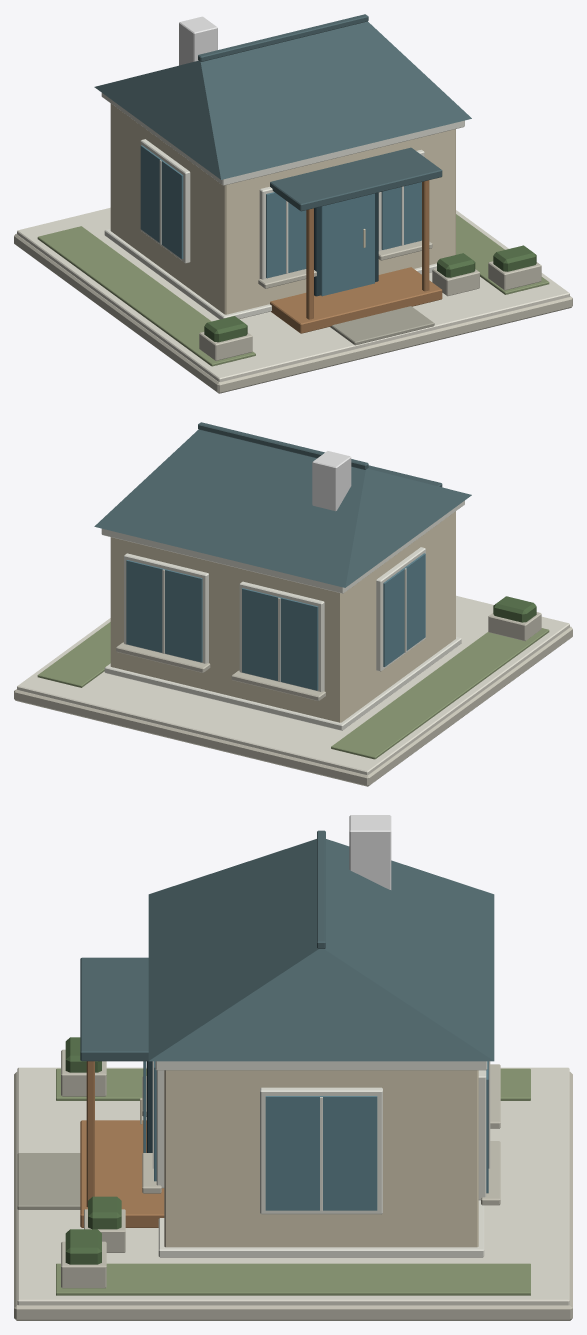
The model's file is small-2x2-a.glb.
The picture shows the model from 3 angles, top to bottom: view 1: azimuth 30°, elevation 25°; view 2: azimuth 150°, elevation 25°; view 3: azimuth 270°, elevation 25°; orthographic projection. The views are drawn at different scales.
Visible parts, largest first — view 1: HipRoof_Unoccupied, BuildingBody, LotTop, GrassSide, LotBase, PorchRoof, PorchDeck, EntryDoor, SideGlass, WindowGlass, WindowGlass.002, RoofCap (+18 smaller); view 2: HipRoof_Unoccupied, BuildingBody, LotTop, GrassSide, LotBase, WindowGlass.001, WindowGlass.003, SideGlass, FloorBand, GrassSide.001, RoofCap, Chimney (+8 smaller); view 3: HipRoof_Unoccupied, BuildingBody, LotTop, GrassSide.001, SideGlass.001, LotBase, PorchRoof, PorchDeck, FloorBand, EntryPath, RoofCap, SideFrame.001 (+15 smaller).
Boxes of the visible parts, box(x1,y1,x2,y2) form: HipRoof_Unoccupied: box(94, 21, 471, 179); BuildingBody: box(110, 103, 455, 314); LotTop: box(17, 207, 569, 381); GrassSide: box(37, 226, 255, 366); LotBase: box(14, 233, 572, 393); PorchRoof: box(270, 147, 442, 211); PorchDeck: box(270, 267, 442, 333); EntryDoor: box(321, 193, 374, 296); SideGlass: box(140, 145, 183, 258); WindowGlass: box(266, 192, 306, 278); WindowGlass.002: box(381, 182, 421, 249); RoofCap: box(101, 93, 464, 185); HipRoof_Unoccupied: box(94, 429, 471, 587); BuildingBody: box(110, 511, 455, 722); LotTop: box(17, 595, 569, 774); GrassSide: box(331, 628, 549, 759); LotBase: box(14, 626, 572, 786); WindowGlass.001: box(242, 588, 318, 690); WindowGlass.003: box(126, 560, 202, 662); SideGlass: box(383, 553, 425, 666); FloorBand: box(104, 637, 461, 730); GrassSide.001: box(37, 622, 110, 687); RoofCap: box(101, 500, 464, 593); Chimney: box(312, 451, 351, 511); HipRoof_Unoccupied: box(148, 839, 494, 1061); BuildingBody: box(164, 1070, 478, 1247); LotTop: box(17, 1067, 569, 1305); GrassSide.001: box(56, 1263, 530, 1295); SideGlass.001: box(265, 1096, 377, 1210); LotBase: box(14, 1072, 572, 1320); PorchRoof: box(80, 957, 148, 1061); PorchDeck: box(80, 1120, 164, 1227); FloorBand: box(158, 1200, 484, 1257); EntryPath: box(17, 1153, 80, 1209); RoofCap: box(155, 1061, 487, 1070); SideFrame.001: box(260, 1087, 382, 1214).
Bounding box in the file's own units: 8 × 5.32 × 8.
